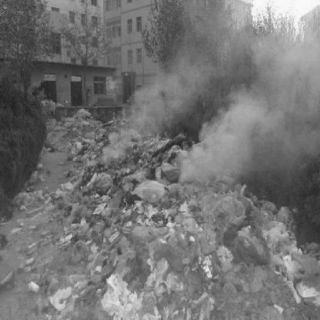Smoke: (210, 74, 314, 178)
